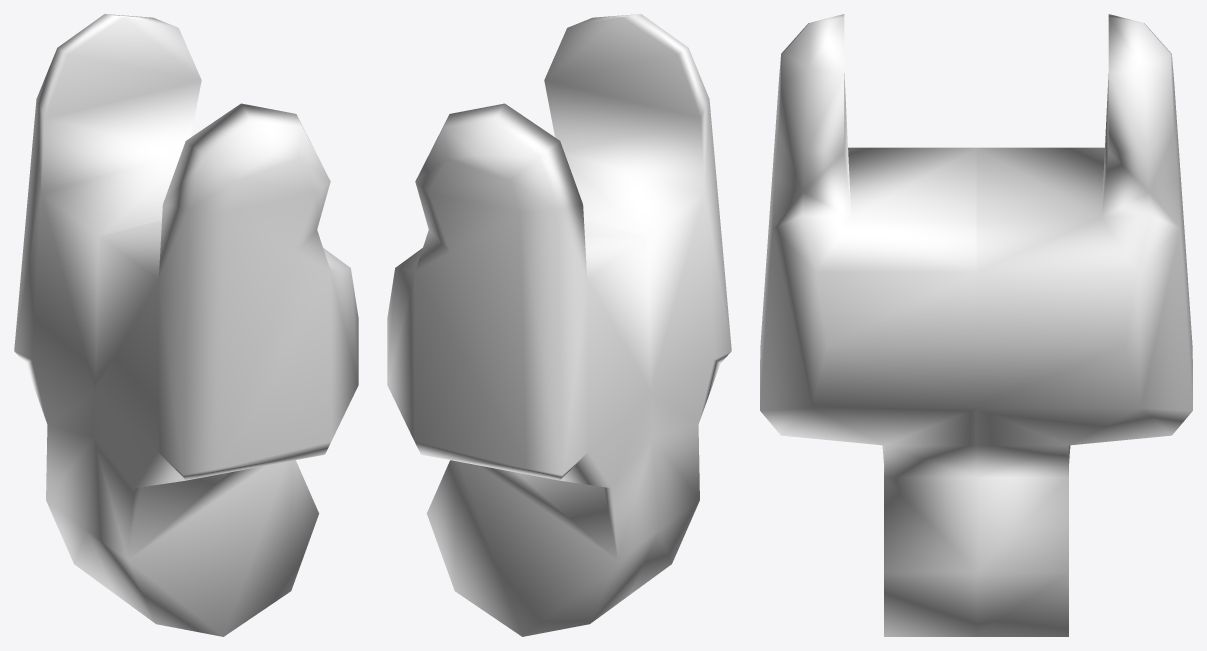
The model's file is middlej2_left.obj.
The picture shows the model from 3 angles, left to right: view 1: azimuth 30°, elevation 25°; view 2: azimuth 150°, elevation 25°; view 3: azimuth 270°, elevation 25°; orthographic projection. The views are drawn at different scales.
Size of the model in its own units: 0.0136 by 0.0345 by 0.022.
1 material, 1 textured.
